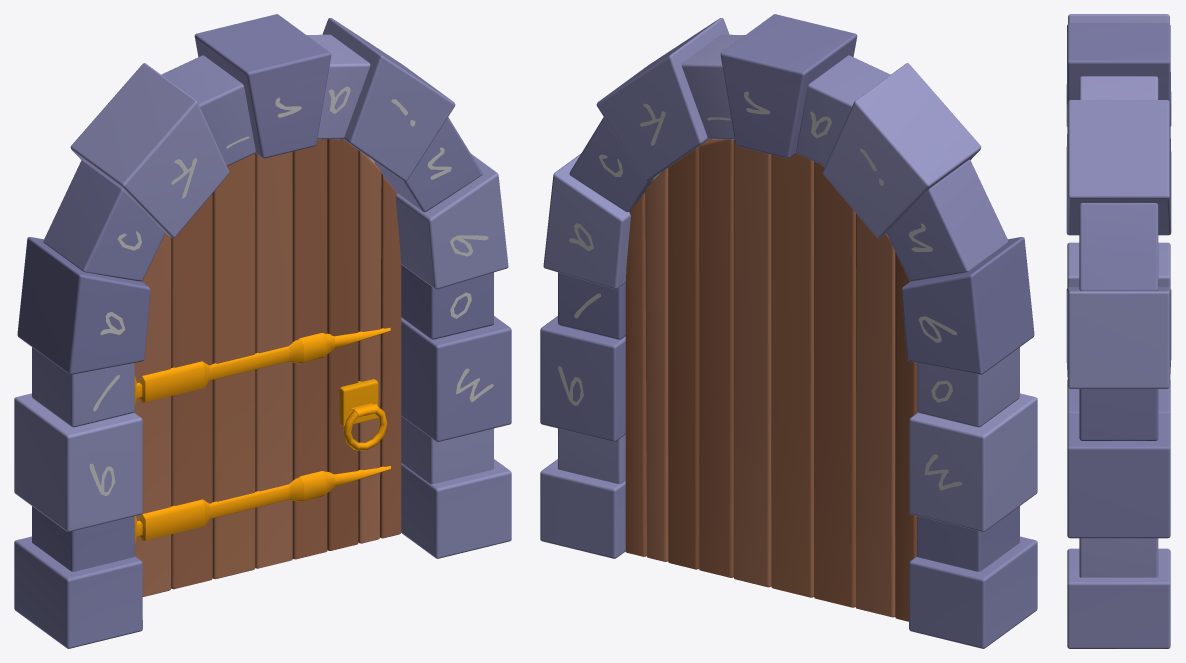
File: DOOR (1).fbx
3 renders of one model, left to right at view 1: azimuth 30°, elevation 25°; view 2: azimuth 150°, elevation 25°; view 3: azimuth 270°, elevation 25°, orthographic. The views are drawn at different scales.
Parts seen in each view (by area): view 1: Ark, Door; view 2: Ark, Door; view 3: Ark.
Boxes of the visible parts, box(x1,y1,x2,y2) form: Ark: box(14, 14, 511, 648); Door: box(134, 139, 401, 596); Ark: box(540, 14, 1037, 648); Door: box(625, 139, 917, 621); Ark: box(1066, 14, 1171, 648).
Bounding box in the file's own units: 12.39 × 14.19 × 2.67.
